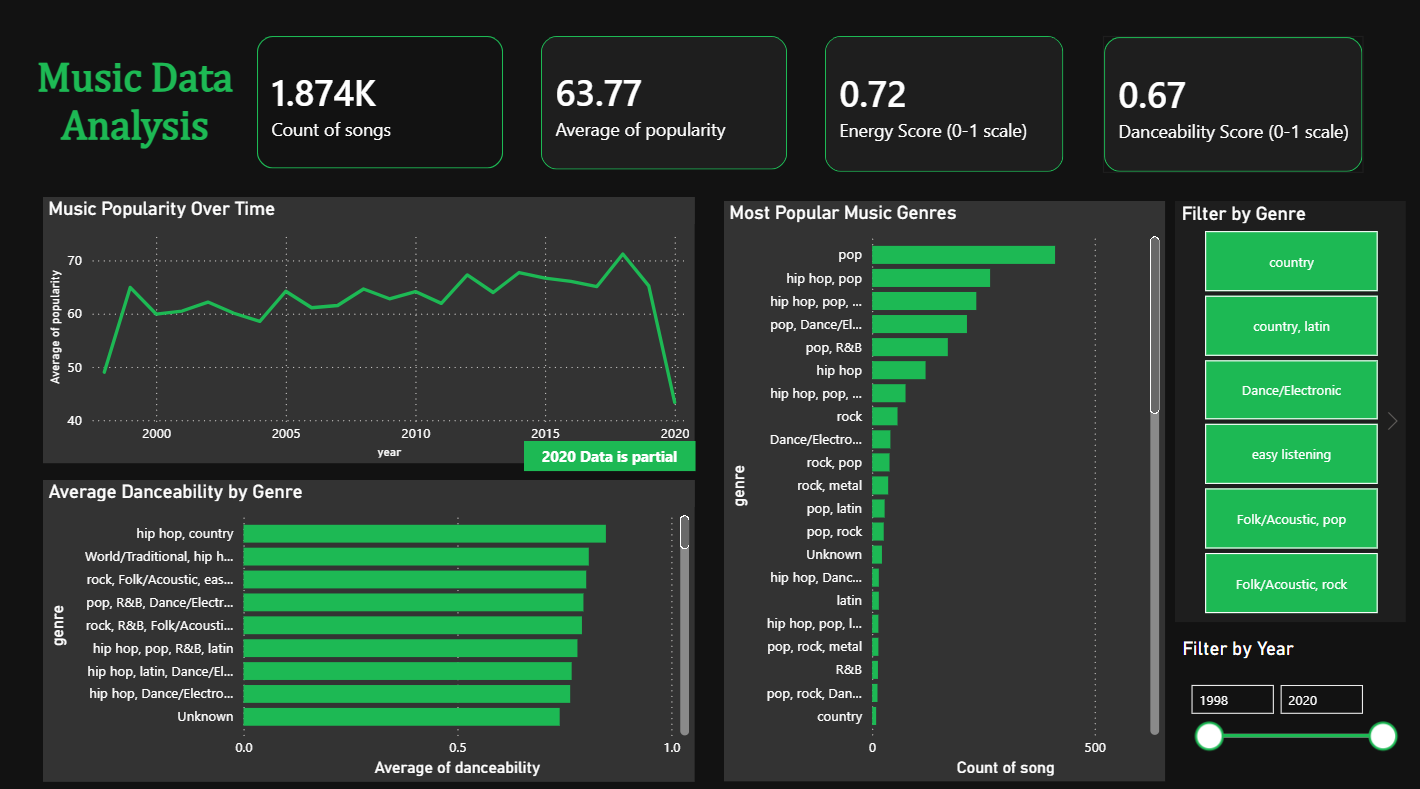

This screenshot's page, from the dashboard's own definition file:
{"tool":"powerbi","page":{"name":"Page 1","canvas":[1280,720],"ordinal":0},"visuals":[{"type":"cardVisual","fields":{"Data":["CountNonNull(songs.song)"]},"box":[244.7,25.5,255.3,153.2],"z":0},{"type":"cardVisual","fields":{"Data":["Avg(songs.popularity)"]},"box":[500,25.5,255.3,154.3],"z":1000},{"type":"cardVisual","fields":{"Data":["Avg(songs.energy)"]},"box":[755.3,25.5,248.9,156.4],"z":2000},{"type":"cardVisual","fields":{"Data":["Avg(songs.danceability)"]},"box":[1004.3,25.5,250,156.4],"z":3000},{"type":"lineChart","title":"Music Popularity Over Time","fields":{"Category":["songs.year"],"Y":["Sum(songs.popularity)"]},"box":[42.6,181.9,585.1,239.4],"z":4000},{"type":"barChart","title":"Most Popular Music Genres","fields":{"Category":["songs.genre"],"Y":["CountNonNull(songs.song)"]},"box":[653.2,186.2,395.7,521.3],"z":5000},{"type":"scatterChart","title":"Music Characteristics Behind Popular Songs","fields":{"X":["Sum(songs.danceability)"],"Y":["Sum(songs.energy)"],"Size":["Sum(songs.popularity)"],"Series":["songs.genre"]},"box":[42.6,436.2,585.1,271.3],"z":6000},{"type":"slicer","title":"Filter by Genre","fields":{"Values":["songs.genre"]},"box":[1058.5,186.2,207.4,377.7],"z":7000},{"type":"slicer","title":"Filter by Year","fields":{"Values":["songs.year"]},"box":[1058.5,577.7,205.3,129.8],"z":8000},{"type":"textbox","box":[14.9,50,219.1,103.2],"z":8001}]}

Visuals, with their boxes in screenshot pixels (x1, y1, x2, y2), scaled from the page's 1280x720 canvas onto the 1420x789 screenshot:
cardVisual - CountNonNull(songs.song): (271, 28, 555, 196)
cardVisual - Avg(songs.popularity): (555, 28, 838, 197)
cardVisual - Avg(songs.energy): (838, 28, 1114, 199)
cardVisual - Avg(songs.danceability): (1114, 28, 1391, 199)
"Music Popularity Over Time" lineChart: (47, 199, 696, 462)
"Most Popular Music Genres" barChart: (725, 204, 1164, 775)
"Music Characteristics Behind Popular Songs" scatterChart: (47, 478, 696, 775)
"Filter by Genre" slicer: (1174, 204, 1404, 618)
"Filter by Year" slicer: (1174, 633, 1402, 775)
textbox: (17, 55, 260, 168)
